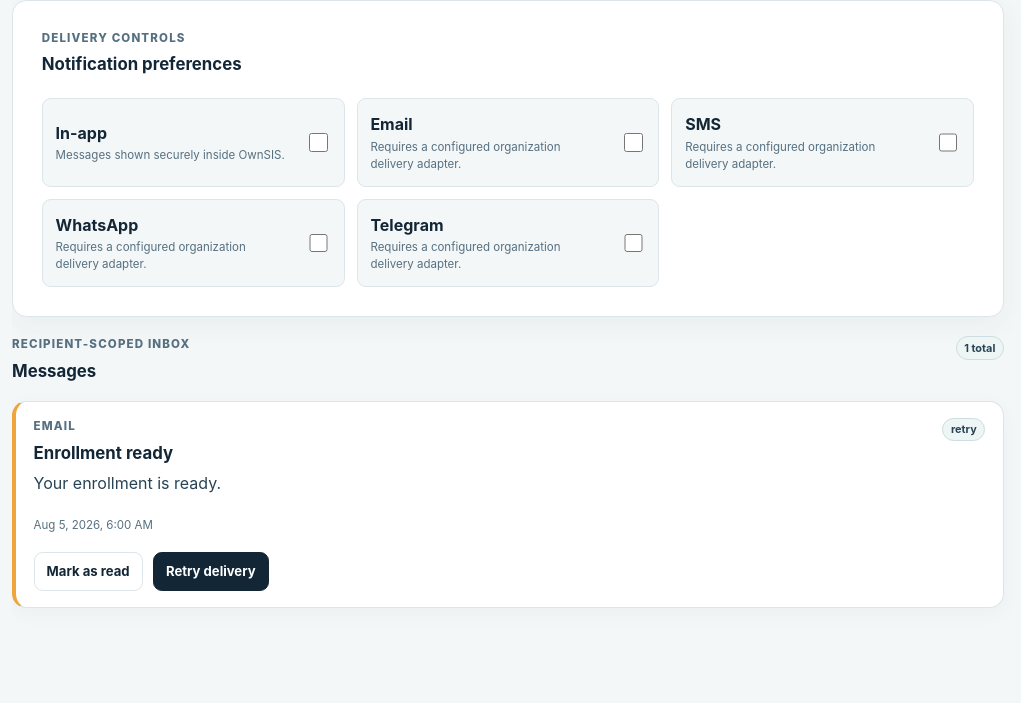
Test: NotificationCenter › retries only an eligible external delivery
Click the button "Retry delivery" at (211, 571), box 153,552 -> 269,591
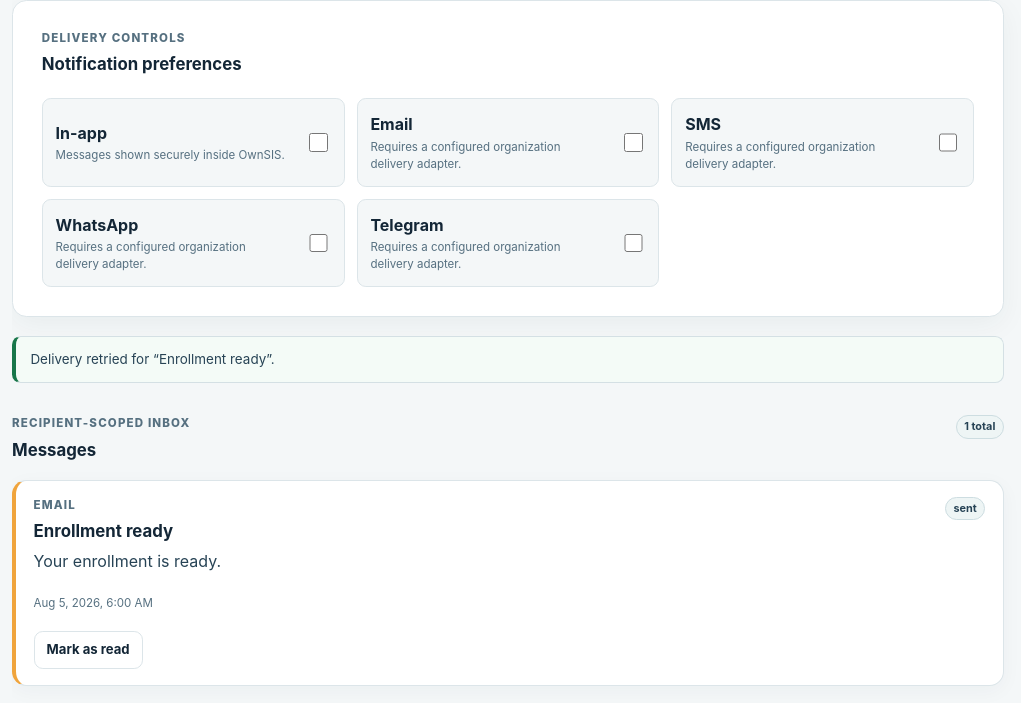
Result: the text "sent" is shown at 945,497 -> 985,520
